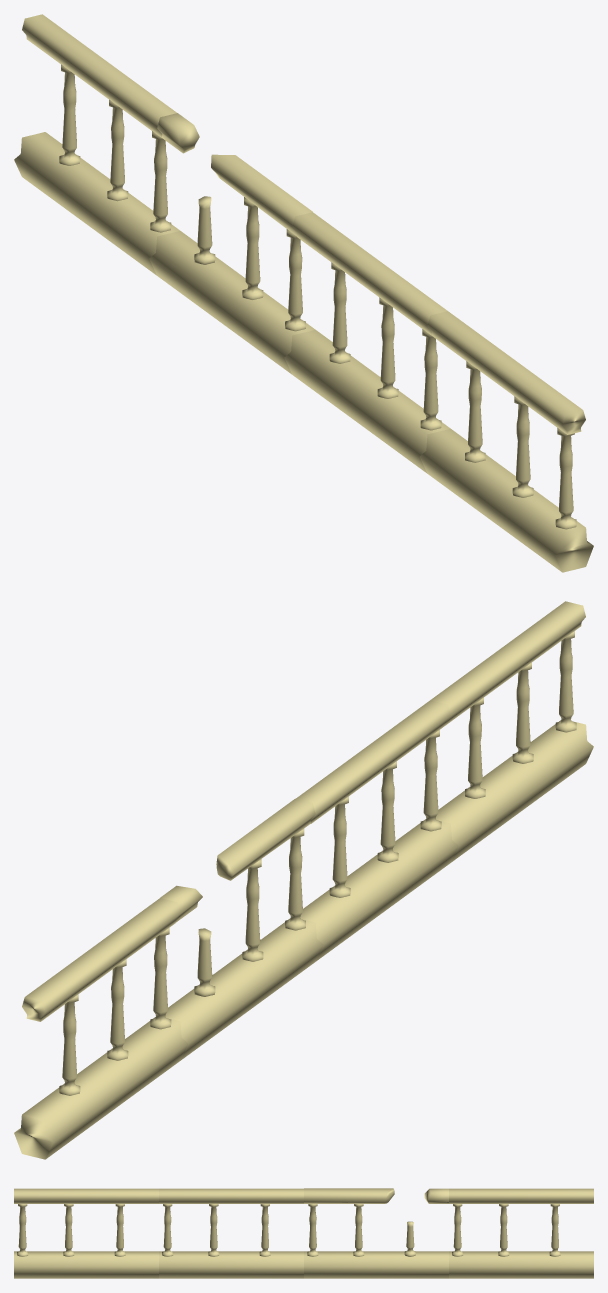
File: Wood_Baluster_01_lod0.fbx
3 views of the same model, one above another, from view 1: azimuth 30°, elevation 25°; view 2: azimuth 150°, elevation 25°; view 3: azimuth 270°, elevation 25° (orthographic). The views are drawn at different scales.
Parts seen in each view (by area): view 1: Wood_Baluster_01_lod0; view 2: Wood_Baluster_01_lod0; view 3: Wood_Baluster_01_lod0.
Boxes of the visible parts, x1,y1,x2,y2 form: Wood_Baluster_01_lod0: [14, 14, 593, 572]; Wood_Baluster_01_lod0: [14, 601, 593, 1159]; Wood_Baluster_01_lod0: [14, 1188, 593, 1278].
Bounding box in the file's own units: 25.19 × 96.83 × 600.
